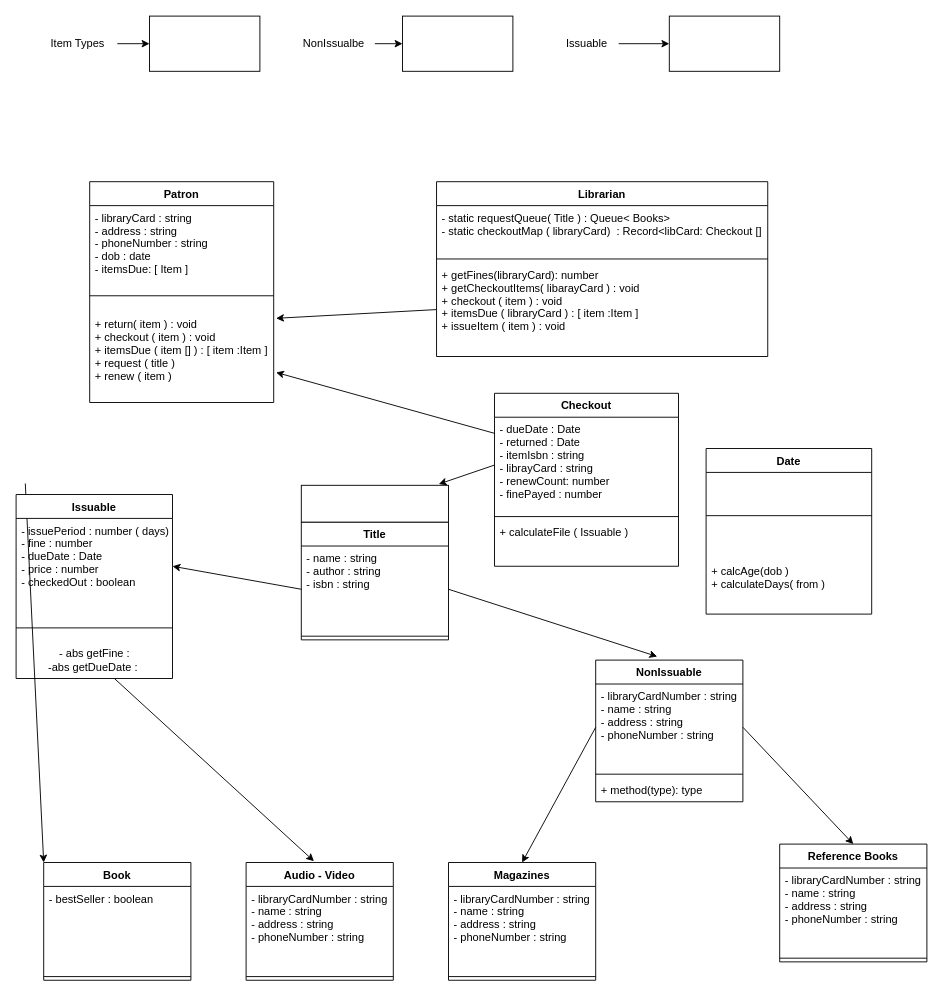
The diagram is 943 pixels wide and 996 high, and some of its shapes have lost their labels. The shapes that lost their labels are listed below. From the top down, each one's centre as x and y in pixels, then its label:
[204,43]: Issuable NonIssuable
[457,43]: Magazine | Ref-Books
[724,43]: Books / A-V
[374,503]: << Interface >>
